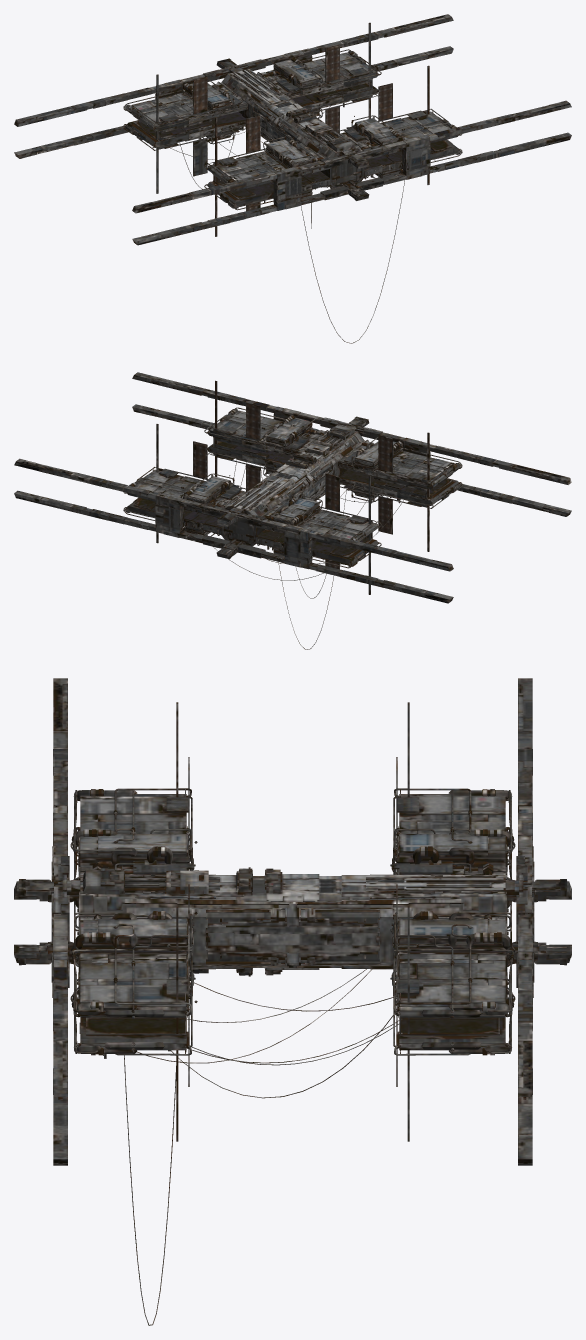
Rendered from mars-station.glb.
3 views of the same model, one above another, from view 1: azimuth 30°, elevation 25°; view 2: azimuth 150°, elevation 25°; view 3: azimuth 270°, elevation 25° (orthographic). The views are drawn at different scales.
Visible parts, largest first — view 1: station.010_low, station.008_low, station.001_low, station.023_low, station.006_low, station_low, station.018_low, station.007_low, station.002_low, station.019_low, station.026_low, station.030_low (+8 smaller); view 2: station.010_low, station.008_low, station.001_low, station.023_low, station.006_low, station_low, station.018_low, station.007_low, station.002_low, station.019_low, station.026_low, station.030_low (+9 smaller); view 3: station.006_low, station.008_low, station.010_low, station.018_low, station.023_low, station.026_low, station.007_low, station.019_low, station.001_low, station.030_low, station_low, station.005_low (+9 smaller).
Boxes of the visible parts, box(x1,y1,x2,y2) form: station.010_low: box(14, 14, 571, 245); station.008_low: box(126, 52, 453, 206); station.001_low: box(159, 44, 426, 211); station.023_low: box(123, 49, 462, 210); station.006_low: box(228, 69, 356, 153); station_low: box(127, 68, 458, 206); station.018_low: box(131, 52, 451, 178); station.007_low: box(127, 59, 452, 203); station.002_low: box(155, 22, 430, 236); station.019_low: box(203, 58, 398, 201); station.026_low: box(125, 50, 460, 208); station.030_low: box(226, 73, 364, 187); station.010_low: box(14, 372, 571, 603); station.008_low: box(132, 411, 459, 564); station.001_low: box(159, 402, 426, 569); station.023_low: box(123, 407, 462, 568); station.006_low: box(228, 431, 357, 511); station_low: box(127, 426, 458, 564); station.018_low: box(134, 411, 454, 536); station.007_low: box(133, 417, 458, 561); station.002_low: box(155, 380, 430, 594); station.019_low: box(187, 416, 382, 560); station.026_low: box(125, 408, 460, 566); station.030_low: box(221, 436, 359, 545); station.006_low: box(80, 874, 505, 969); station.008_low: box(78, 796, 507, 1048); station.010_low: box(14, 678, 571, 1165); station.018_low: box(80, 794, 505, 1006); station.023_low: box(70, 788, 515, 1055); station.026_low: box(75, 790, 510, 1053); station.007_low: box(79, 794, 506, 1050); station.019_low: box(18, 846, 567, 997); station.001_low: box(133, 757, 452, 1086); station.030_low: box(94, 880, 491, 961); station_low: box(80, 860, 505, 1046); station.005_low: box(79, 875, 506, 962).
Bounding box in the file's own units: 46.4 × 25.72 × 26.13.
1 material, 1 textured.
